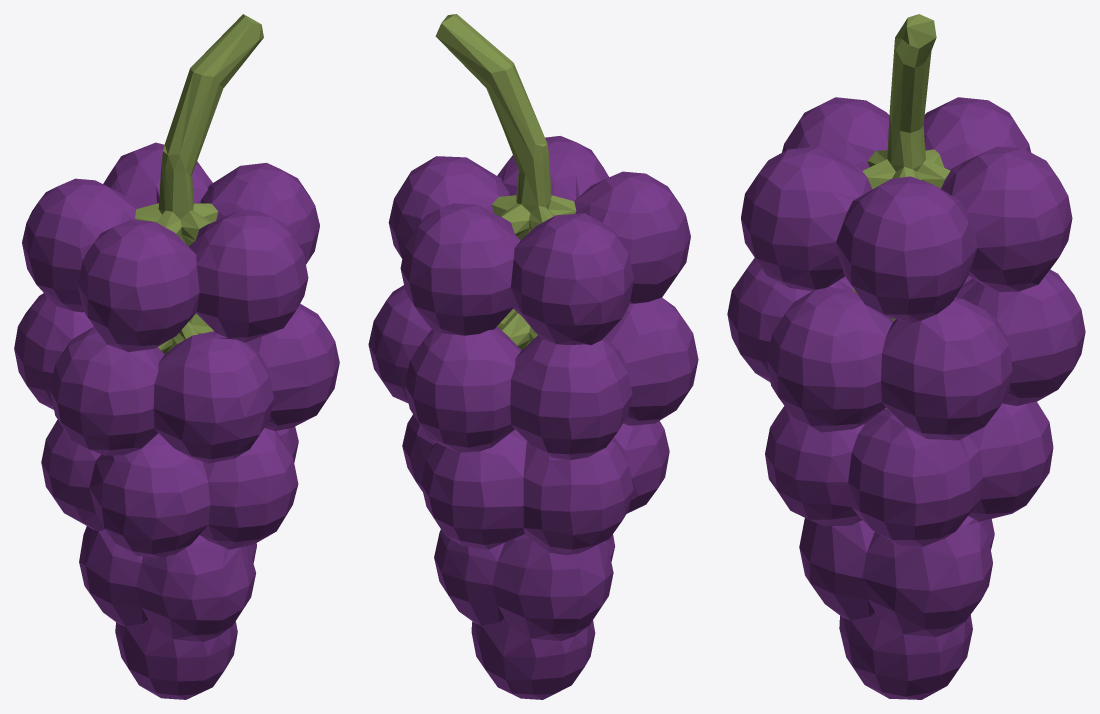
The model's file is NEW_RECOVERY_003_LOD2.glb.
3 views of the same model, side by side, from view 1: azimuth 30°, elevation 25°; view 2: azimuth 150°, elevation 25°; view 3: azimuth 270°, elevation 25° (orthographic). The views are drawn at different scales.
Visible parts, largest first — view 1: NEW_RECOVERY_003_LOD2; view 2: NEW_RECOVERY_003_LOD2; view 3: NEW_RECOVERY_003_LOD2.
Boxes of the visible parts, x1=… form: NEW_RECOVERY_003_LOD2: x1=14, y1=14, x2=339, y2=699; NEW_RECOVERY_003_LOD2: x1=368, y1=14, x2=698, y2=699; NEW_RECOVERY_003_LOD2: x1=727, y1=14, x2=1085, y2=699.
Size of the model in its own units: 0.1435 by 0.3275 by 0.1477.
